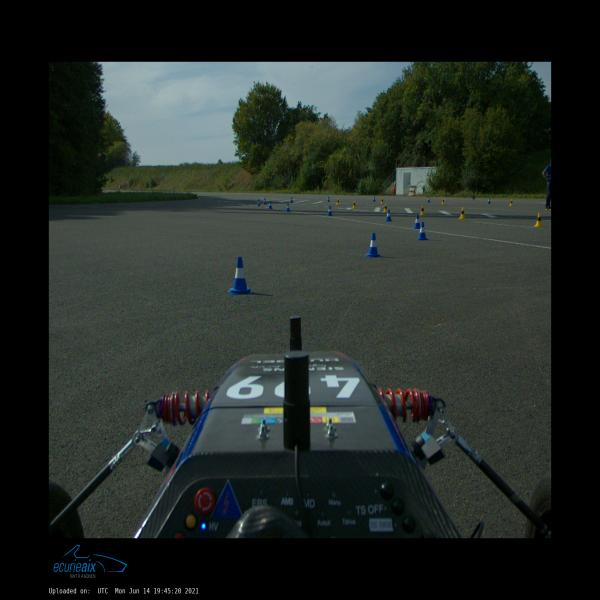blue_cone: (228, 257, 252, 294), (365, 233, 380, 258), (417, 222, 429, 240), (413, 214, 420, 228), (385, 210, 392, 222), (327, 206, 333, 216), (268, 201, 273, 209), (286, 204, 290, 212), (263, 198, 267, 205), (257, 199, 261, 206), (290, 197, 294, 203), (327, 196, 330, 202), (373, 196, 376, 202), (427, 197, 430, 202), (488, 198, 491, 203)
yellow_cone: (534, 213, 544, 227), (458, 207, 466, 219), (420, 205, 426, 215), (352, 200, 357, 208), (383, 204, 388, 212), (336, 198, 340, 205), (510, 199, 514, 206), (380, 198, 384, 204), (442, 198, 445, 204)
